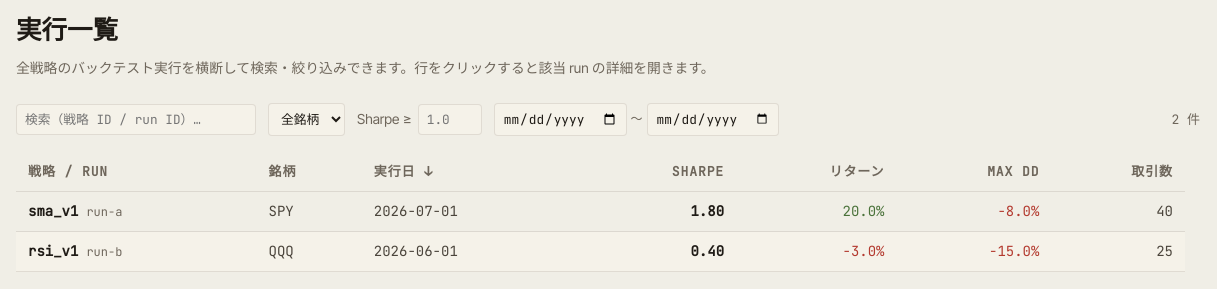
Test case: RunsPage (issue #374) › 検索（strategy_id）で絞り込め、絞り込み件数が見える
The image size is (1217, 289).
Expected: the link "sma_v1" is shown, [28, 202, 78, 220]
Type "rsi" into the field labelled "検索（戦略 ID / run ID）…".
click(136, 120); type("rsi")  # box [16, 104, 256, 135]
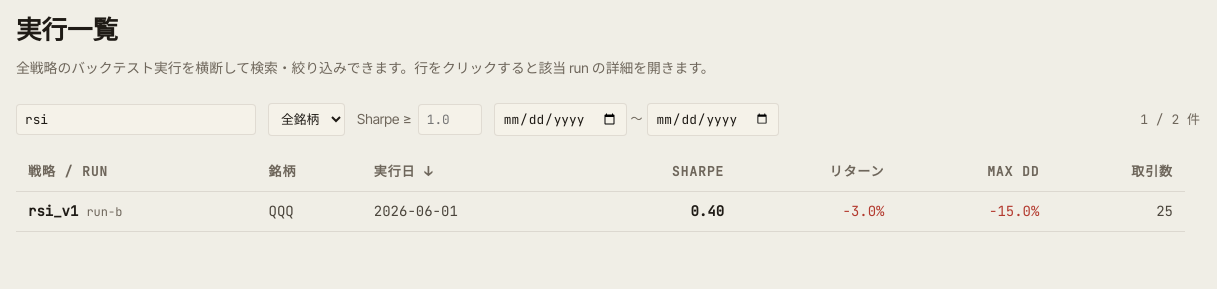
Now the link "sma_v1" is gone
Now the text "1 / 2 件" is shown, box [1140, 110, 1200, 129]
